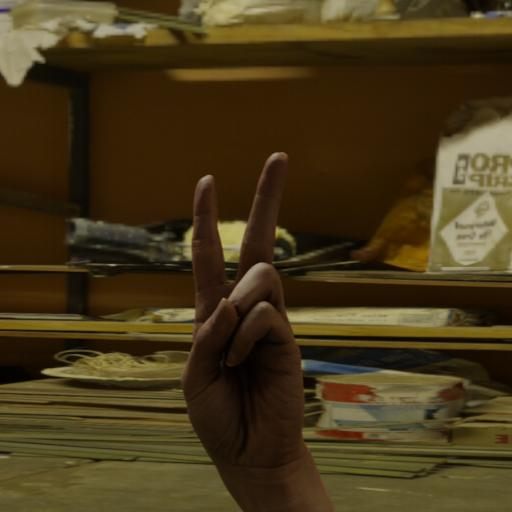V: (172, 144, 329, 490)
